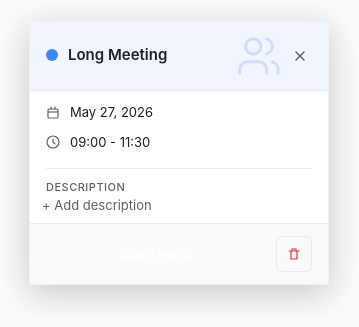
Test: Bug 12: editEndTime initialization › should initialize editEndTime when entering time editing mode
Expected: the text "09:00 - 11:30" is shown, [70, 132, 150, 152]
# Click time to edit
Click the button "09:00 - 11:30": {"x": 98, "y": 142} [46, 134, 150, 150]
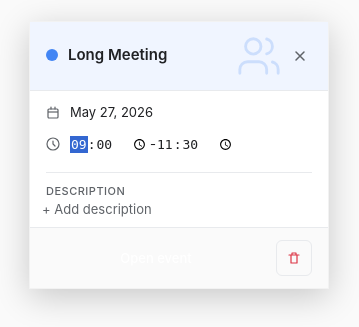
Result: the number of time fields is 2 at [70, 132, 150, 156]; [156, 132, 236, 156]
Result: the 1st time field holds "09:00" at [70, 132, 150, 156]
Result: the 2nd time field holds "11:30" at [156, 132, 236, 156]
